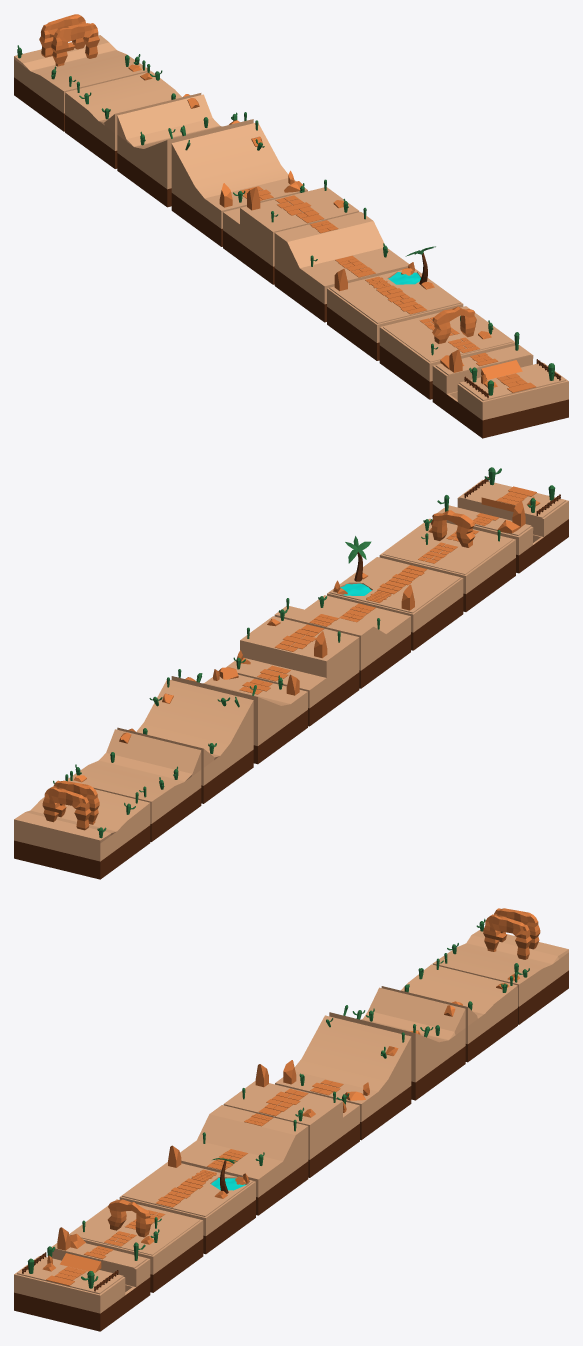
File: Tile simplista.fbx
3 views of the same model, one above another, from view 1: azimuth 30°, elevation 25°; view 2: azimuth 150°, elevation 25°; view 3: azimuth 330°, elevation 25° (orthographic).
Visible parts, largest first — view 1: Tile1, Tile6, Tile4, Tile9, Tile3, Tile7, Tile2, Tile5, Tile8; view 2: Tile9, Tile5, Tile7, Tile8, Tile2, Tile3, Tile1, Tile4, Tile6; view 3: Tile1, Tile6, Tile4, Tile9, Tile3, Tile7, Tile2, Tile5, Tile8.
Part boxes in pixels (<box>): Tile1: <box>432,332,568,438</box>; Tile6: <box>171,120,307,246</box>; Tile4: <box>274,207,408,322</box>; Tile9: <box>14,14,150,131</box>; Tile3: <box>327,246,463,360</box>; Tile7: <box>117,94,253,207</box>; Tile2: <box>379,306,514,399</box>; Tile5: <box>223,179,359,284</box>; Tile8: <box>65,64,201,168</box>; Tile9: <box>14,774,150,879</box>; Tile5: <box>226,609,359,726</box>; Tile7: <box>117,677,253,803</box>; Tile8: <box>65,729,201,841</box>; Tile2: <box>379,510,515,611</box>; Tile3: <box>327,536,463,650</box>; Tile1: <box>432,467,568,573</box>; Tile4: <box>274,595,410,688</box>; Tile6: <box>171,667,307,764</box>; Tile1: <box>14,1227,150,1331</box>; Tile6: <box>275,1015,411,1140</box>; Tile4: <box>180,1105,308,1215</box>; Tile9: <box>432,908,568,1024</box>; Tile3: <box>119,1145,255,1254</box>; Tile7: <box>329,987,465,1100</box>; Tile2: <box>69,1199,203,1292</box>; Tile5: <box>223,1064,359,1177</box>; Tile8: <box>381,958,517,1062</box>.
Bounding box in the file's own units: 1050 × 842 × 9415.
